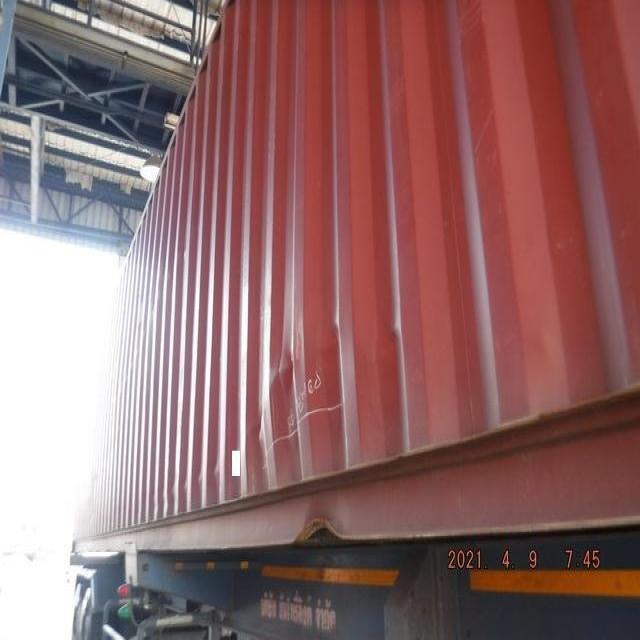dent: (244, 308, 362, 458), (347, 312, 418, 376)
